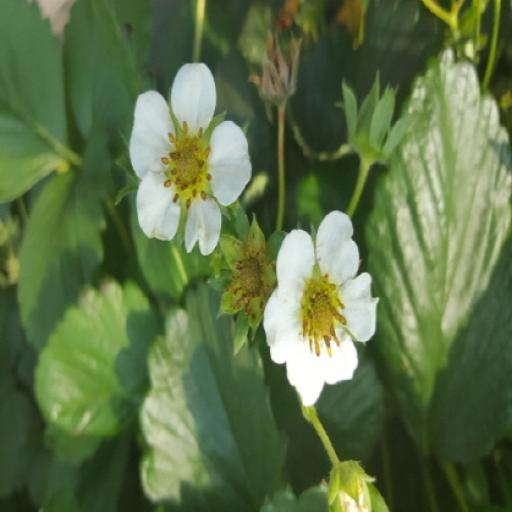Blossom Blight: (155, 301, 217, 394), (299, 152, 352, 248), (218, 193, 274, 267)
